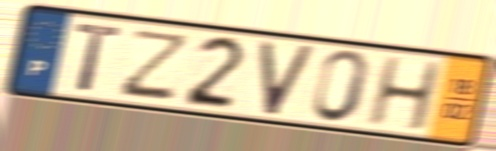0: (311, 48, 373, 125)
2: (183, 34, 248, 113)
H: (363, 55, 444, 134)
T: (73, 21, 126, 95)
V: (257, 39, 319, 119)
Z: (115, 27, 194, 103)
